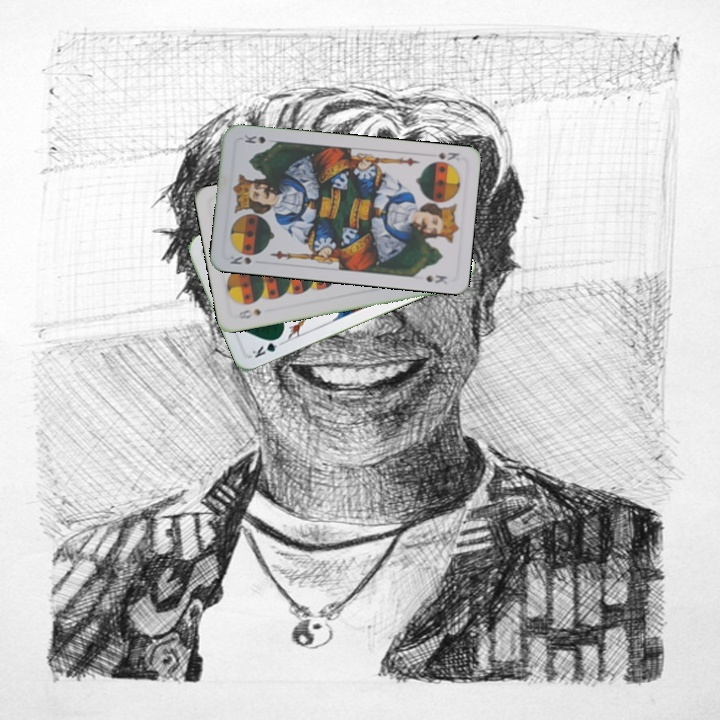GK: (248, 333, 287, 360)
S8: (232, 304, 263, 321)
SK: (433, 148, 462, 164), (226, 252, 254, 267)
